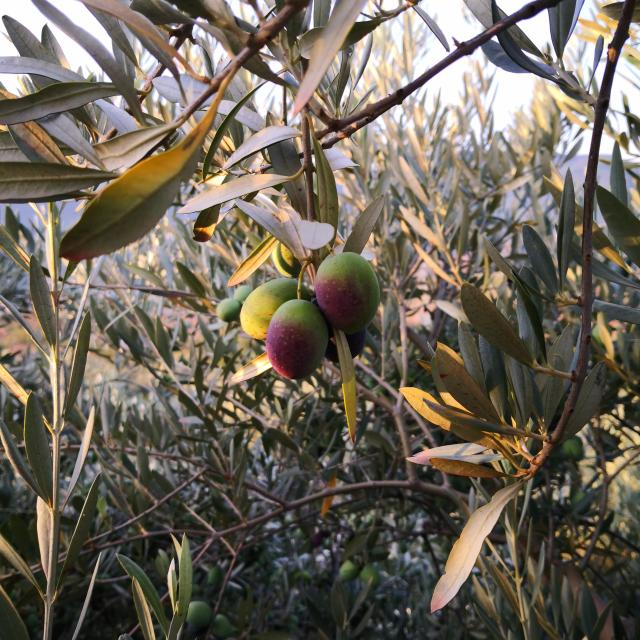Healthy: (241, 278, 328, 379), (315, 252, 380, 340)
